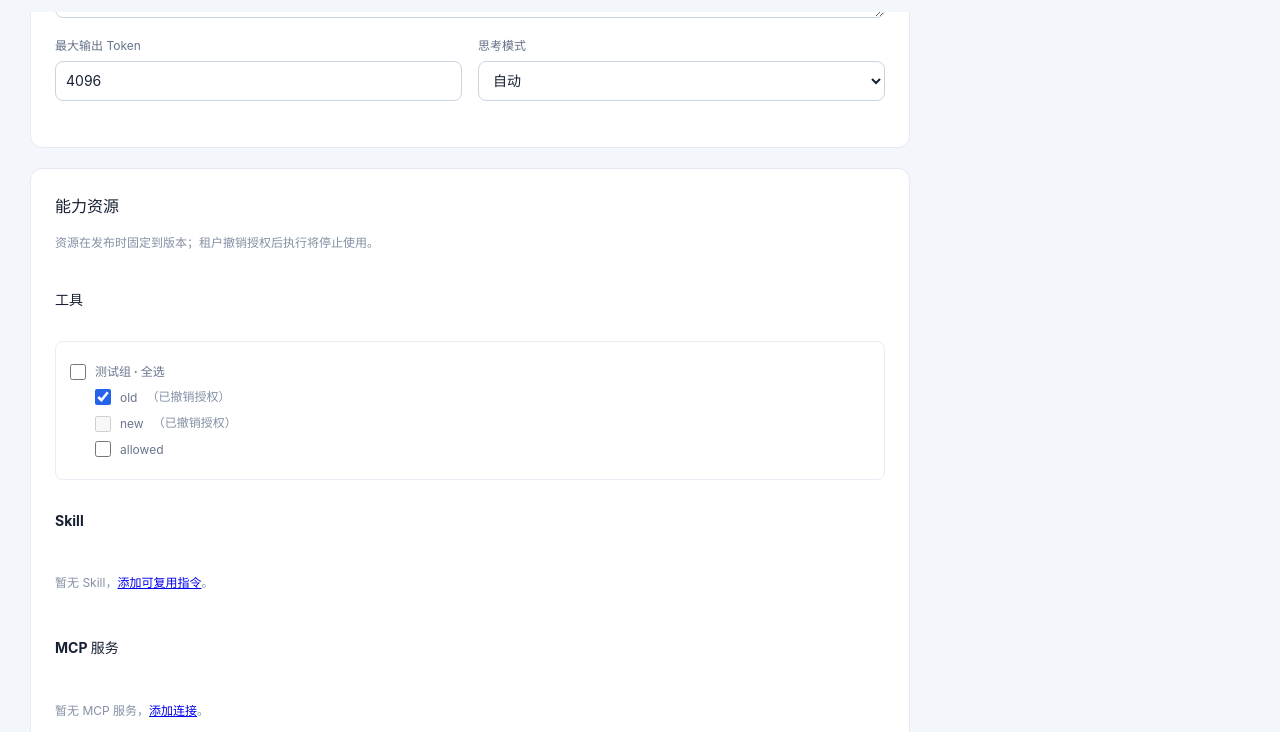
Test: keeps revoked bindings removable and excludes revoked tools from group selection
(page scrolled)
Expected: the checkbox labelled "old （已撤销授权）" is enabled, 95,389 -> 111,405
Expected: the checkbox labelled "new （已撤销授权）" is disabled, 95,416 -> 111,432
Click the checkbox labelled "测试组 · 全选" at (78, 372), box 70,364 -> 86,380
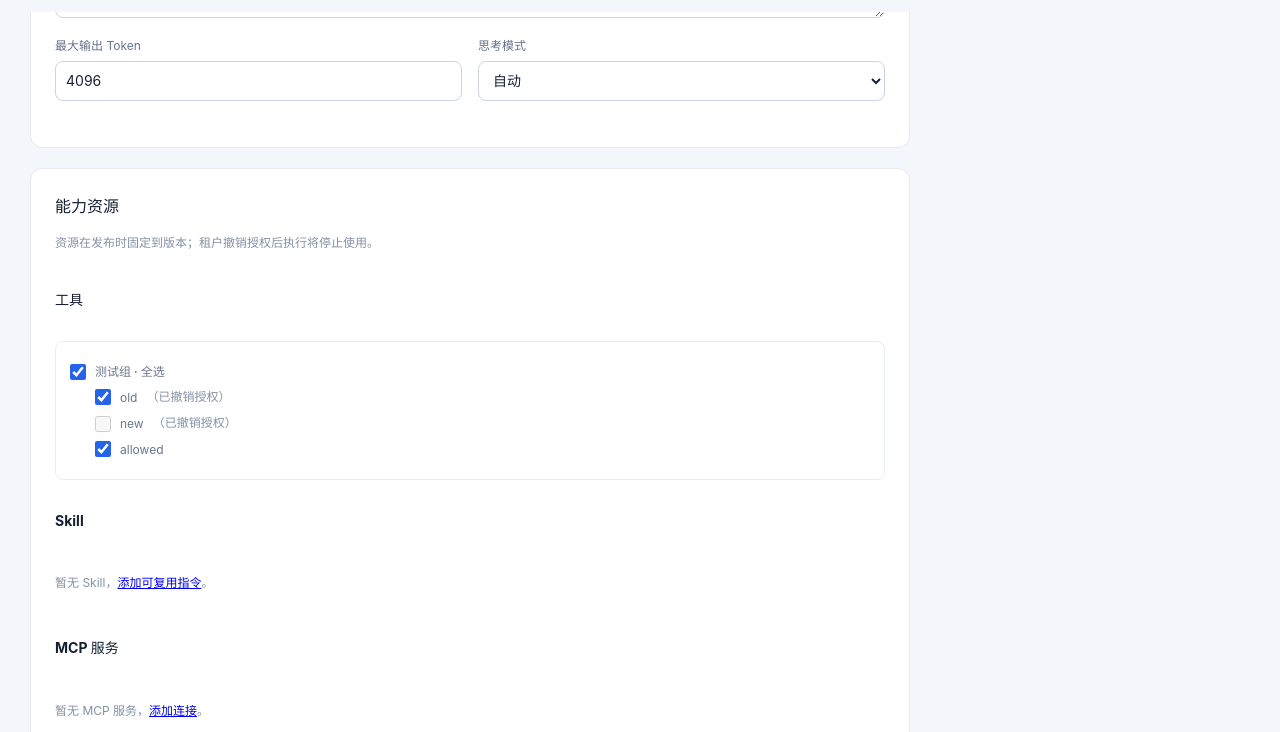
Expected: the checkbox labelled "new （已撤销授权）" is not checked, 95,416 -> 111,432
Now the checkbox labelled "allowed" is checked, box 95,442 -> 111,458
Click the checkbox labelled "old （已撤销授权）" at (103, 397), box 95,389 -> 111,405
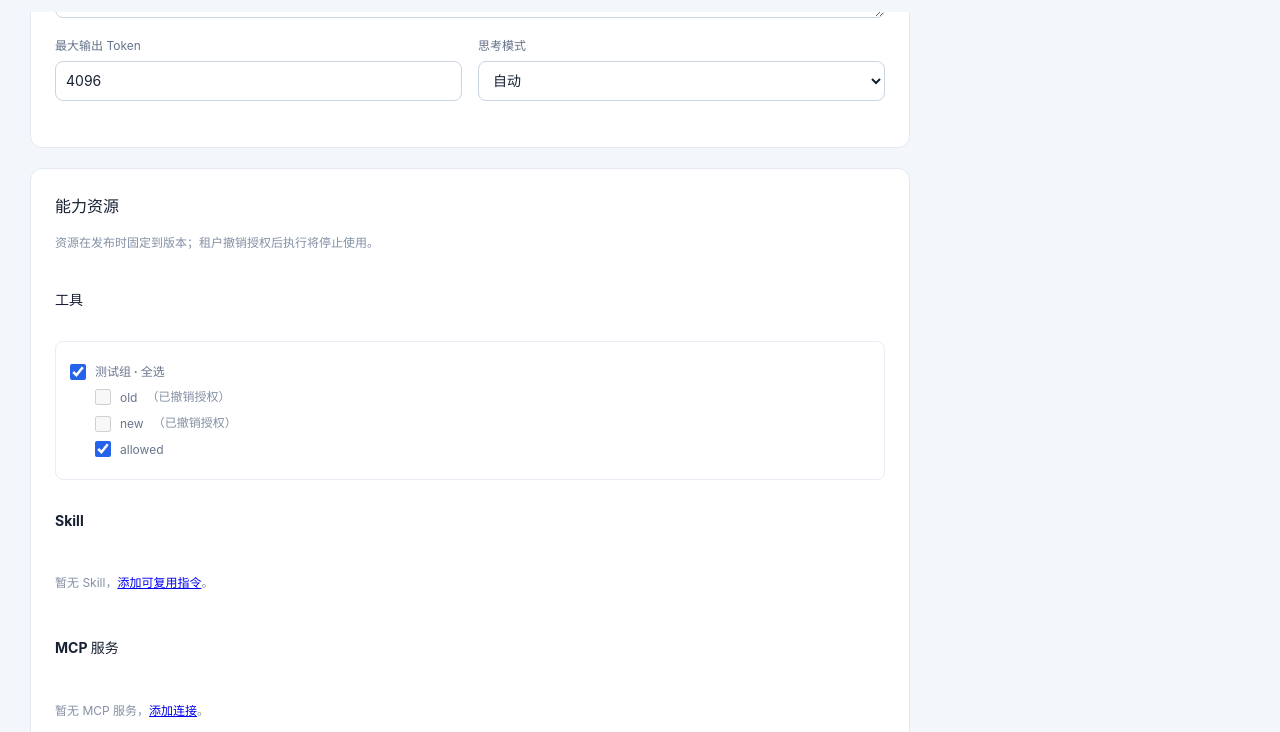
Expected: the text "已撤销授权" is shown, 146,389 -> 230,404
Now the checkbox labelled "old （已撤销授权）" is disabled, box 95,389 -> 111,405
